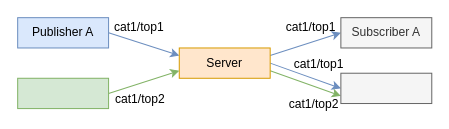
This 449x129 diagram has some shape labels left out. The shapes that lost their labels are listed below. From the top down, each one's box as (x1, y1, x2, y2) in pixels, then its label:
(17, 77, 109, 109): Publisher B
(340, 72, 432, 104): Subscriber B
